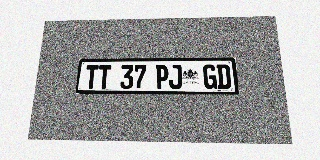3: (120, 65, 133, 89)
7: (133, 65, 146, 89)
D: (216, 64, 231, 89)
G: (203, 64, 217, 89)
J: (169, 65, 182, 89)
P: (155, 65, 168, 89)
T: (84, 65, 99, 89), (97, 65, 111, 89)
